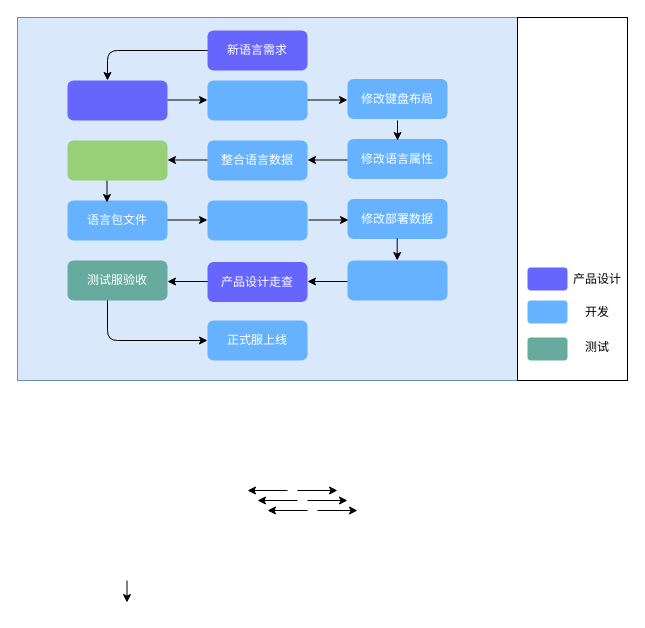
The diagram is 645 pixels wide and 628 high, and some of its shapes have lost their labels. The shapes that lost their labels are listed below. From the top down, each one's centre as x and y in pixels, then its label:
At [117,100]: "键盘设计".
At [257,100]: "创建语言资源".
At [117,160]: "打包脚本".
At [257,220]: "上传语言包".
At [397,280]: "部署测试服".
